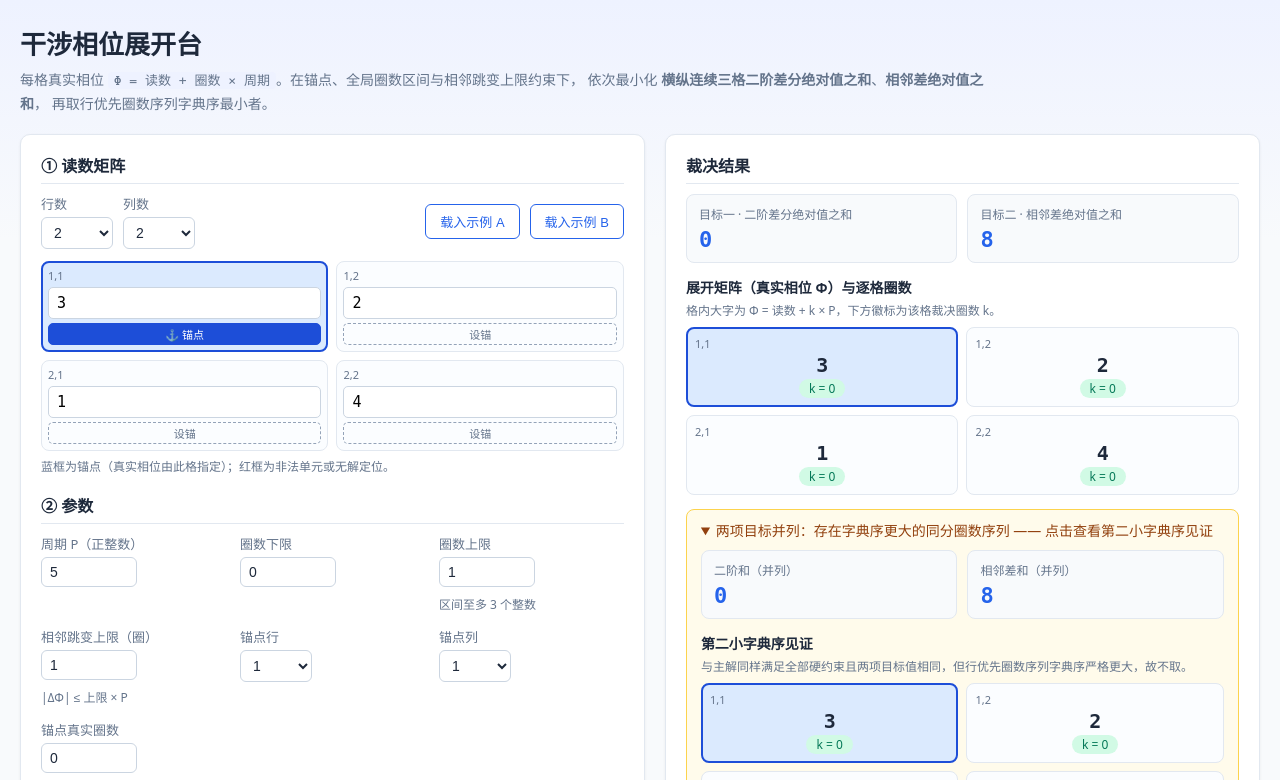
Test: App 主界面 › 输入变化立即撤下旧结果：见证 → 非法后不再残留
Expected: the heading "第二小字典序见证" is shown, [701, 634, 813, 653]
Clear the field named "第 1 行第 1 列读数" at coordinates (185, 303), box [48, 287, 321, 319]
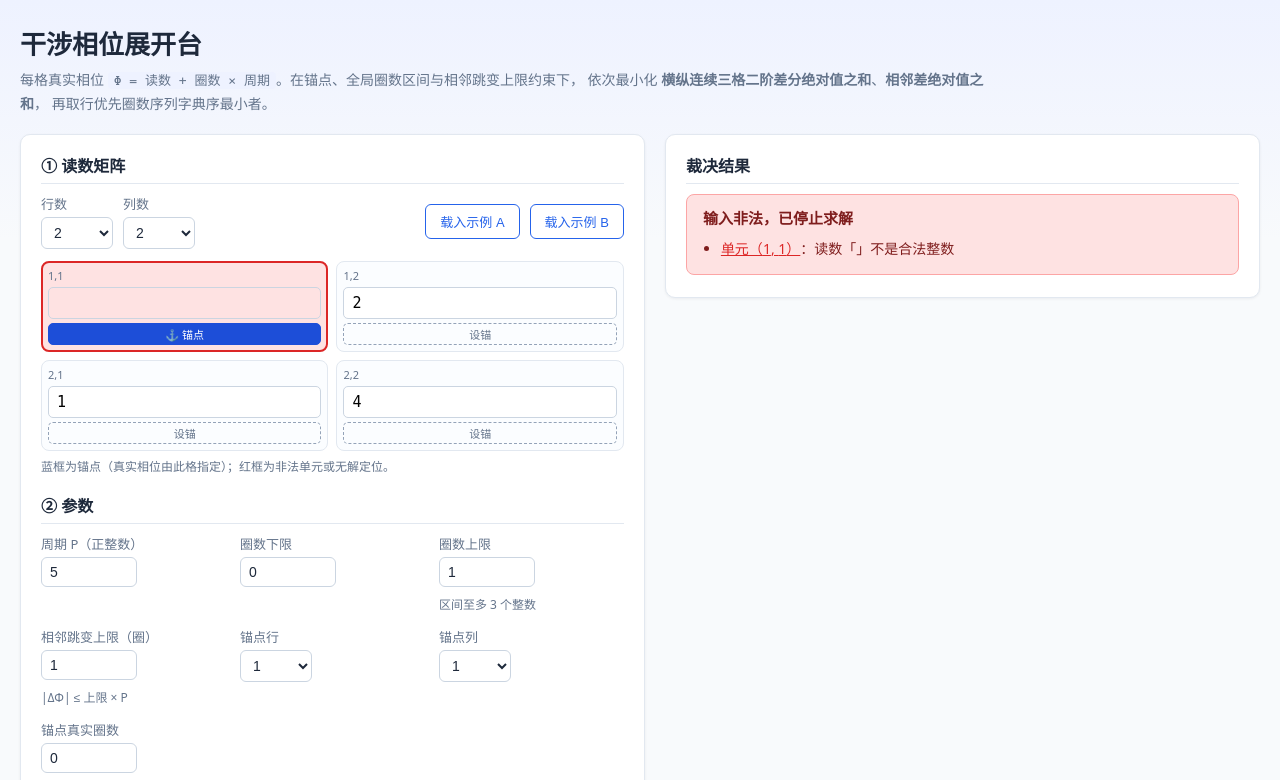
Now the heading "输入非法，已停止求解" is shown, box [703, 208, 853, 228]
Now the heading "第二小字典序见证" is gone
